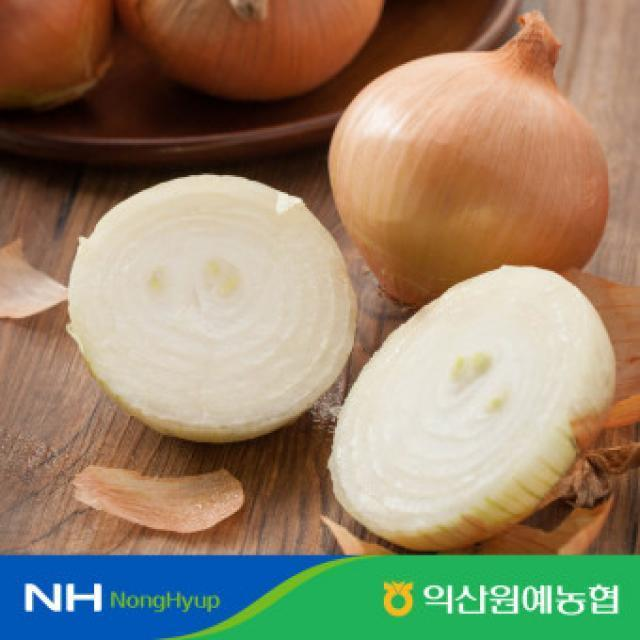onion: (330, 22, 640, 294), (61, 161, 362, 440), (339, 271, 612, 537)
